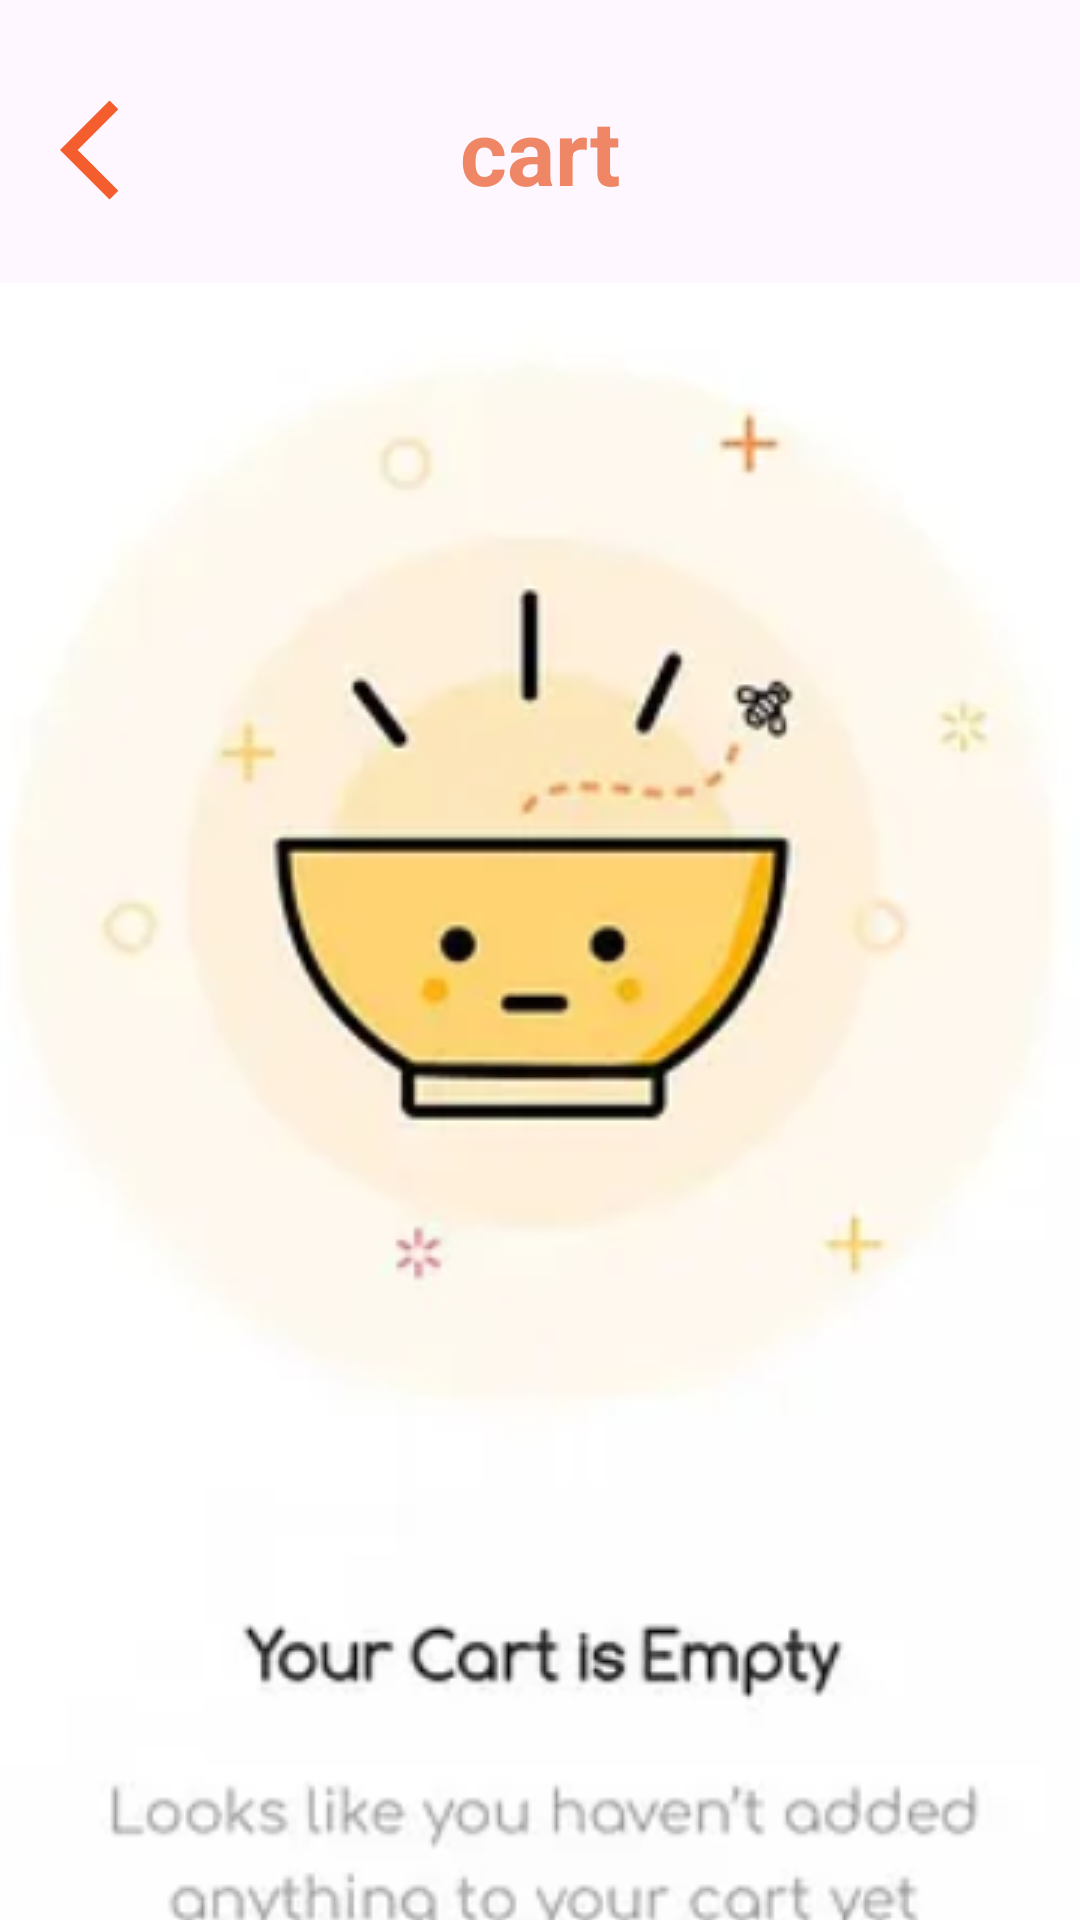

Point at icon controls on the screen. Image size 1080 x 1920, points as point (x, y).
arrow back: point (89, 150)
